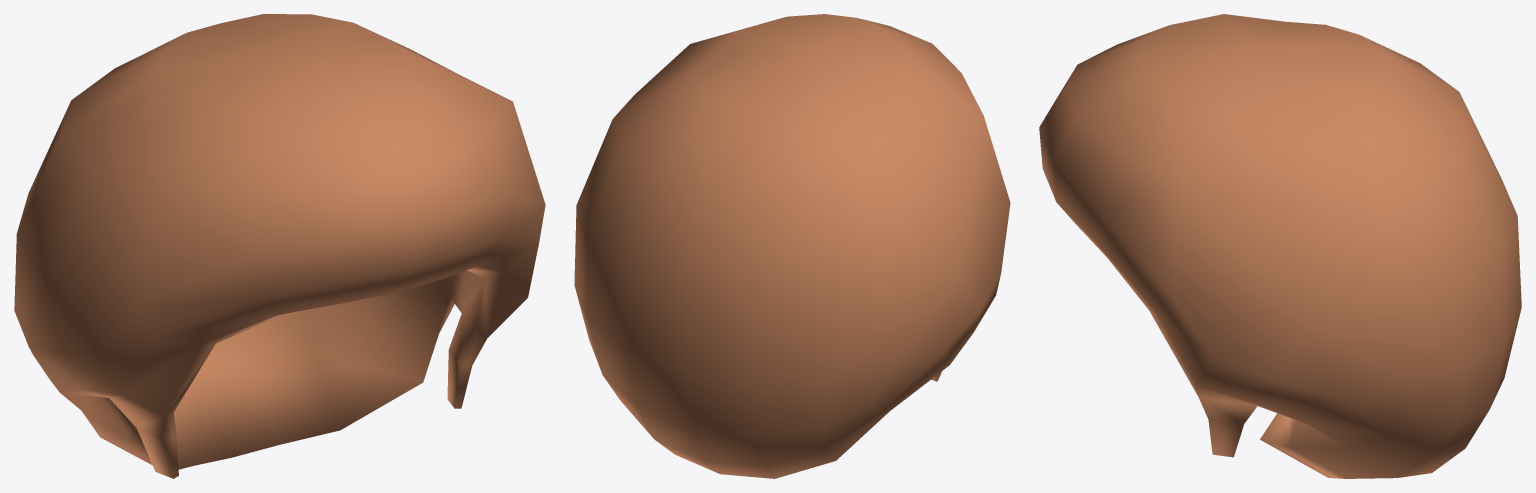
Rendered from Afro.fbx.
The picture shows the model from 3 angles, left to right: view 1: azimuth 30°, elevation 25°; view 2: azimuth 150°, elevation 25°; view 3: azimuth 270°, elevation 25°; orthographic projection. The views are drawn at different scales.
Visible parts, largest first — view 1: 03 Hair - Afro; view 2: 03 Hair - Afro; view 3: 03 Hair - Afro.
Part boxes in pixels (bbox=[...]): 03 Hair - Afro: bbox=[14, 14, 545, 478]; 03 Hair - Afro: bbox=[574, 14, 1010, 478]; 03 Hair - Afro: bbox=[1039, 14, 1521, 478].
Bounding box in the file's own units: 0.2889 × 0.2766 × 0.293.
